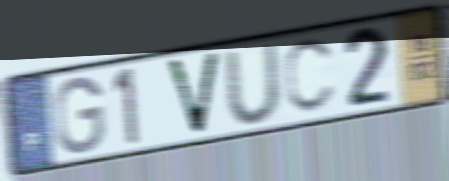1: (110, 64, 144, 149)
2: (342, 21, 400, 116)
C: (282, 35, 337, 117)
G: (52, 74, 108, 157)
U: (221, 41, 285, 127)
V: (162, 49, 224, 139)
